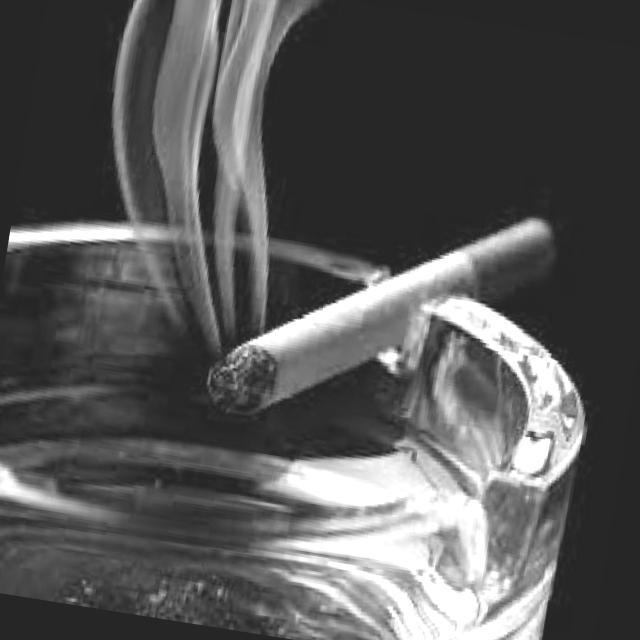smoke: (198, 164, 569, 473)
